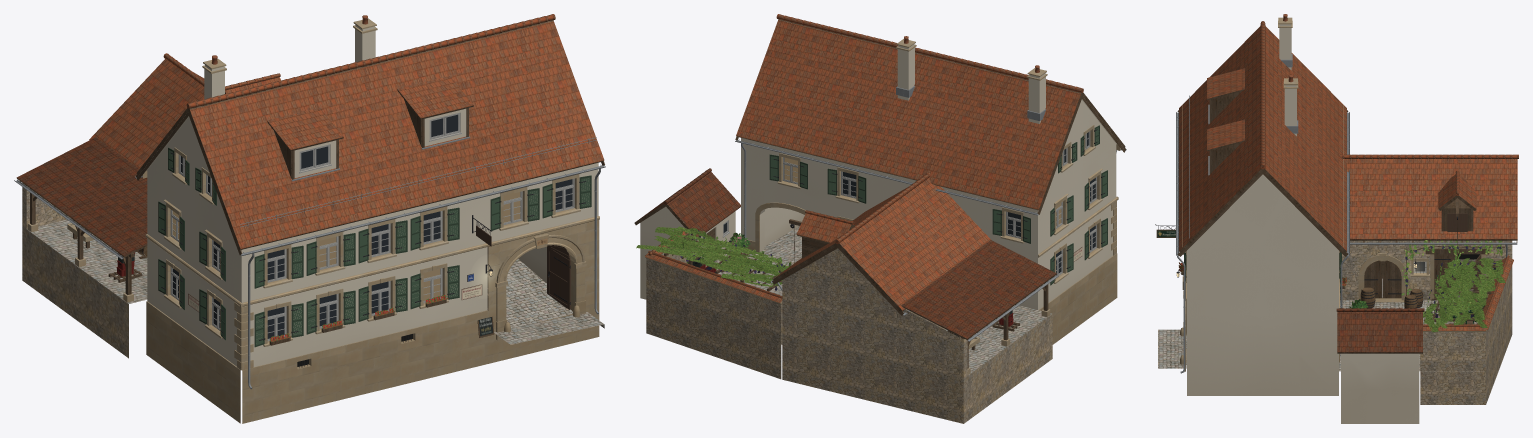
File: weingut_estate.glb
The picture shows the model from 3 angles, left to right: view 1: azimuth 30°, elevation 25°; view 2: azimuth 150°, elevation 25°; view 3: azimuth 270°, elevation 25°; orthographic projection. The views are drawn at different scales.
Visible parts, largest first — view 1: Weingut_tiles_base, Weingut_ashlar, Weingut_plaster_base, Weingut_painted, Weingut_paint, Weingut_cobble, Weingut_rubble, Weingut_timber, Weingut_glass, Weingut_glass_lit, Weingut_sign; view 2: Weingut_tiles_base, Weingut_rubble, Weingut_plaster_base, Weingut_ashlar, Weingut_timber, Weingut_fol, Weingut_paint, Weingut_cobble, Weingut_painted, Weingut_glass; view 3: Weingut_tiles_base, Weingut_plaster_base, Weingut_rubble, Weingut_timber, Weingut_fol, Weingut_paint, Weingut_ashlar, Weingut_cobble, Weingut_painted.
Part boxes in pixels (x1,y1,x2,y2): Weingut_tiles_base: [17, 14, 604, 255]; Weingut_ashlar: [27, 18, 599, 423]; Weingut_plaster_base: [144, 21, 598, 366]; Weingut_painted: [158, 147, 591, 347]; Weingut_paint: [14, 15, 605, 389]; Weingut_cobble: [27, 218, 604, 344]; Weingut_rubble: [22, 183, 128, 358]; Weingut_timber: [17, 20, 604, 345]; Weingut_glass: [172, 114, 572, 338]; Weingut_glass_lit: [172, 192, 520, 300]; Weingut_sign: [188, 238, 547, 337]; Weingut_tiles_base: [636, 14, 1083, 338]; Weingut_rubble: [646, 247, 1052, 423]; Weingut_plaster_base: [640, 22, 1123, 310]; Weingut_ashlar: [645, 39, 1120, 374]; Weingut_timber: [634, 19, 1125, 368]; Weingut_fol: [636, 226, 794, 290]; Weingut_paint: [692, 36, 1126, 341]; Weingut_cobble: [714, 226, 1051, 375]; Weingut_painted: [769, 125, 1107, 285]; Weingut_glass: [723, 132, 1095, 275]; Weingut_tiles_base: [1179, 21, 1518, 352]; Weingut_plaster_base: [1187, 24, 1419, 423]; Weingut_rubble: [1340, 240, 1512, 404]; Weingut_timber: [1177, 89, 1517, 353]; Weingut_fol: [1178, 240, 1505, 332]; Weingut_paint: [1155, 14, 1517, 373]; Weingut_ashlar: [1180, 17, 1503, 371]; Weingut_cobble: [1158, 259, 1484, 371]; Weingut_painted: [1156, 213, 1467, 293].
Bounding box in the file's own units: 22.96 × 15.01 × 19.51.
Materials: 14 (11 with a texture image).
